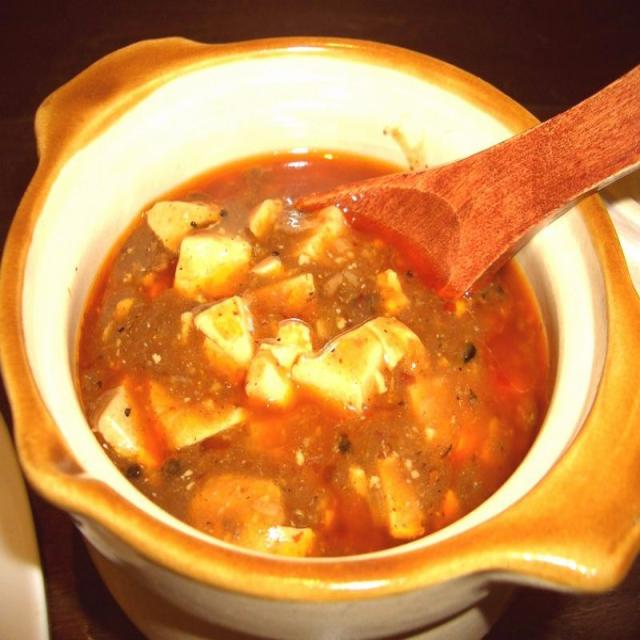豆腐料理: (0, 37, 628, 640)
